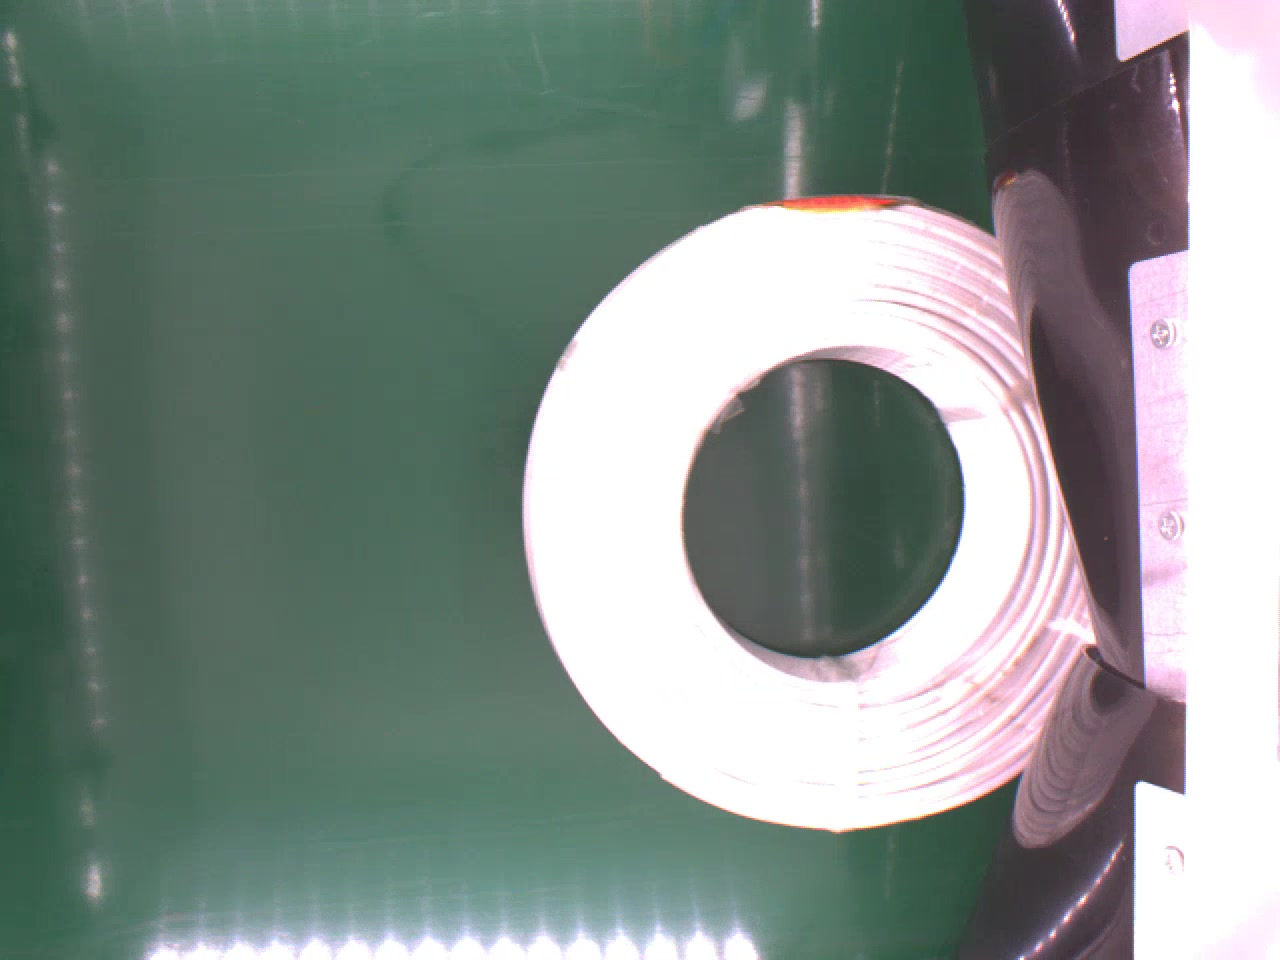white: (519, 190, 1096, 839)
